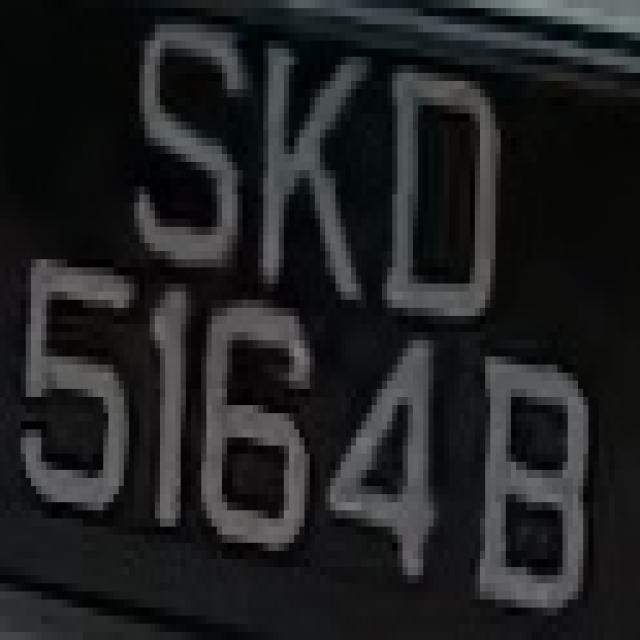1: (140, 243, 207, 559)
4: (315, 284, 444, 608)
5: (10, 218, 140, 526)
6: (191, 276, 310, 575)
B: (470, 340, 604, 616)
D: (377, 41, 506, 357)
K: (248, 32, 372, 348)
S: (119, 0, 253, 300)
